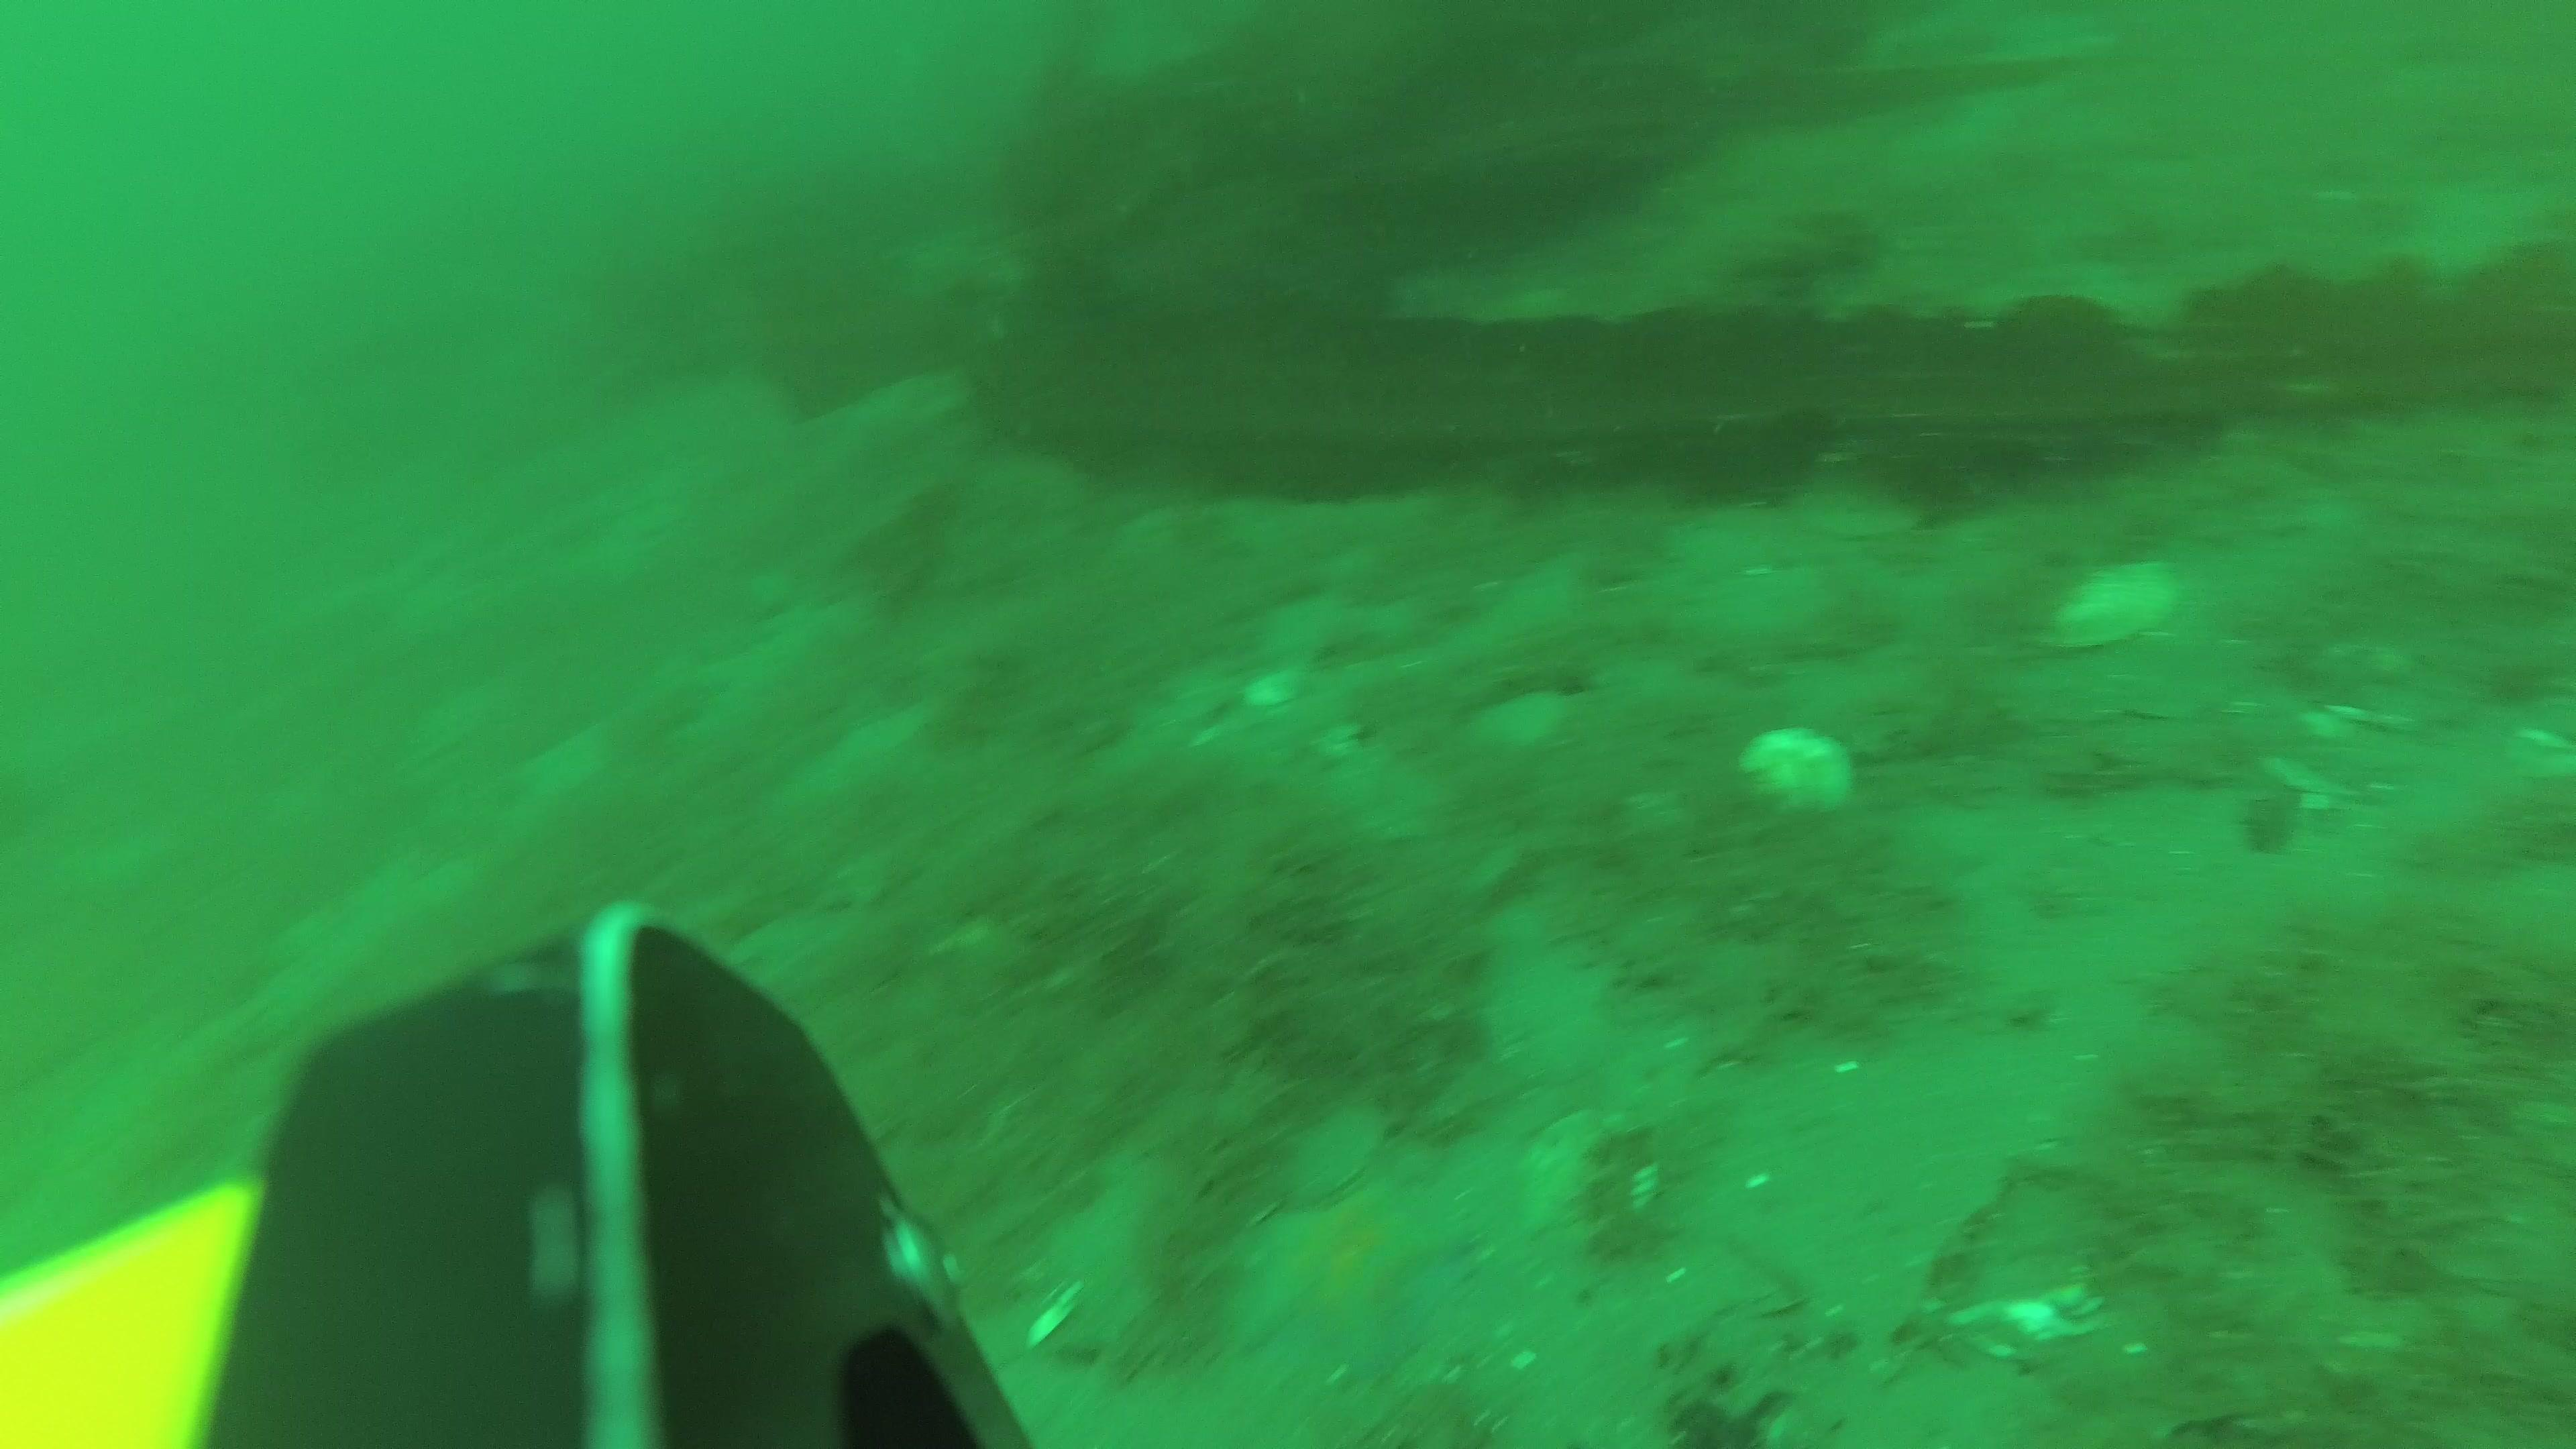scallop: (2029, 563, 2181, 646), (1732, 725, 1858, 810), (1792, 476, 1921, 536)
starfish: (1238, 1200, 1497, 1366)
